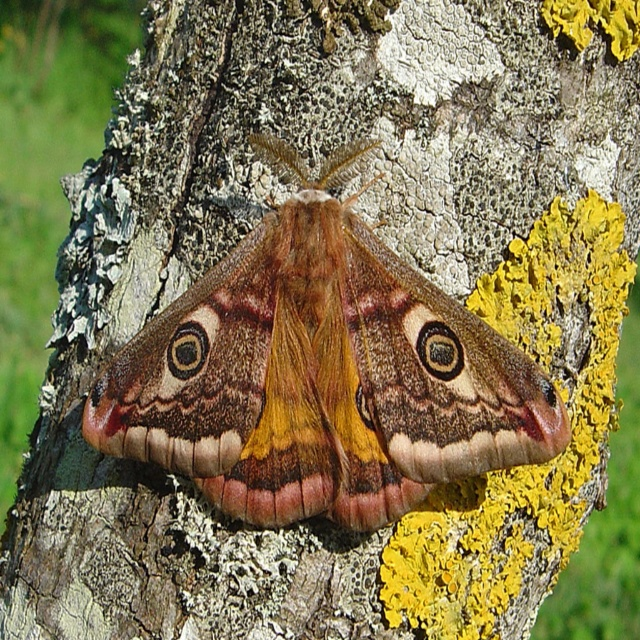Butterfly: (95, 177, 534, 516)
